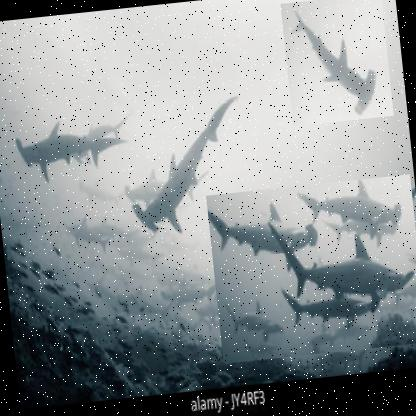hammerhead_Shark: (205, 174, 415, 366), (280, 0, 395, 127), (5, 87, 132, 193)
